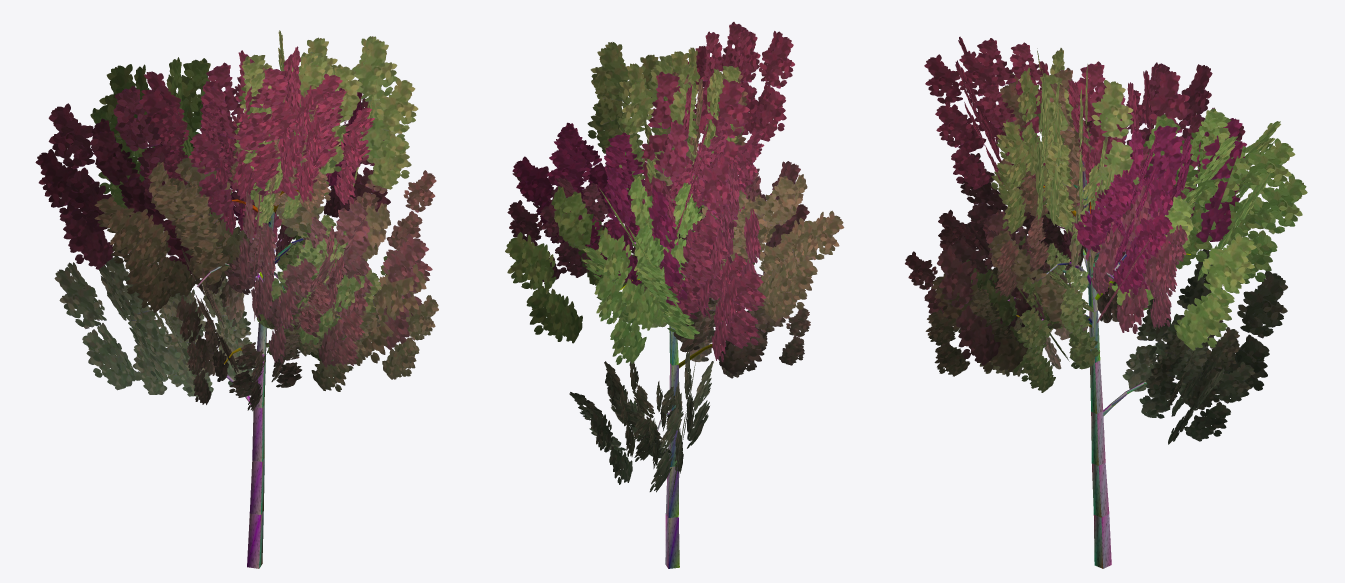
The model's file is nat_birch_a_LOD2.glb.
3 renders of one model, left to right at view 1: azimuth 30°, elevation 25°; view 2: azimuth 150°, elevation 25°; view 3: azimuth 270°, elevation 25°, orthographic. The views are drawn at different scales.
Parts seen in each view (by area): view 1: nat_birch_a_LOD2; view 2: nat_birch_a_LOD2; view 3: nat_birch_a_LOD2.
Boxes of the visible parts, x1,y1,x2,y2 form: nat_birch_a_LOD2: (35, 30, 438, 568); nat_birch_a_LOD2: (505, 22, 844, 568); nat_birch_a_LOD2: (905, 36, 1307, 568).
Size of the model in its own units: 6.57 by 9.82 by 7.35.
2 materials, 2 textured.
